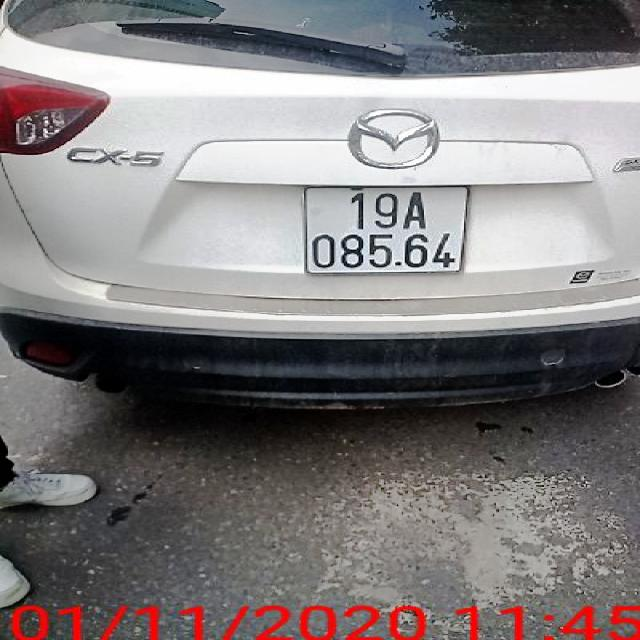license_plate: (305, 189, 473, 273)
